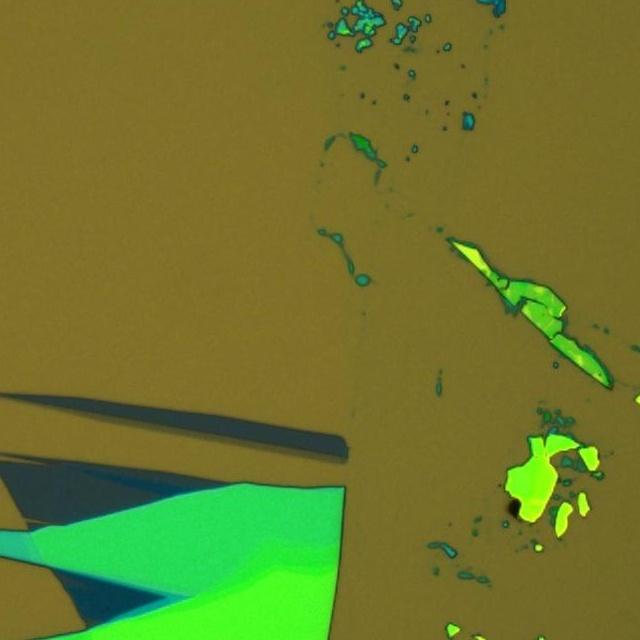monolayer-eWW4: (54, 405, 347, 466)
